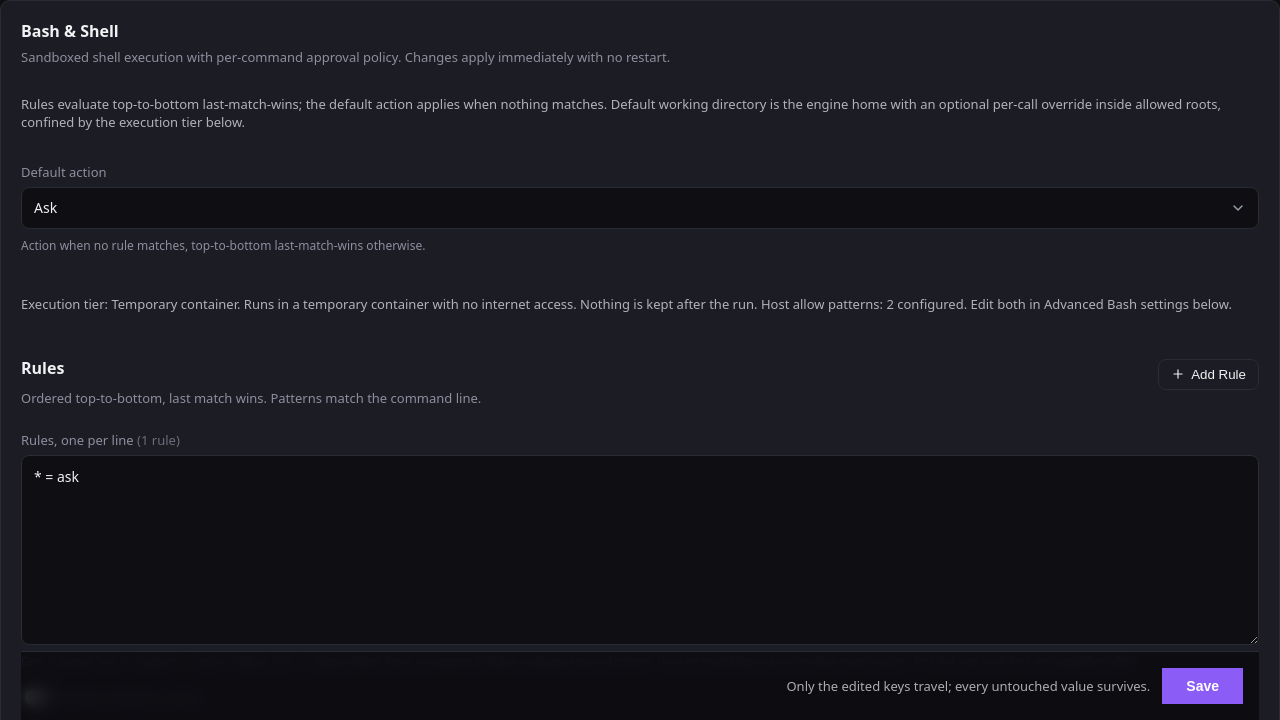
AccessBashSection › rejects an empty rule list before any network write
The image size is (1280, 720).
Clear the text box labelled "Rules, one per line (1 rule)" at (640, 550), box x1=21 y1=455 x2=1259 y2=645
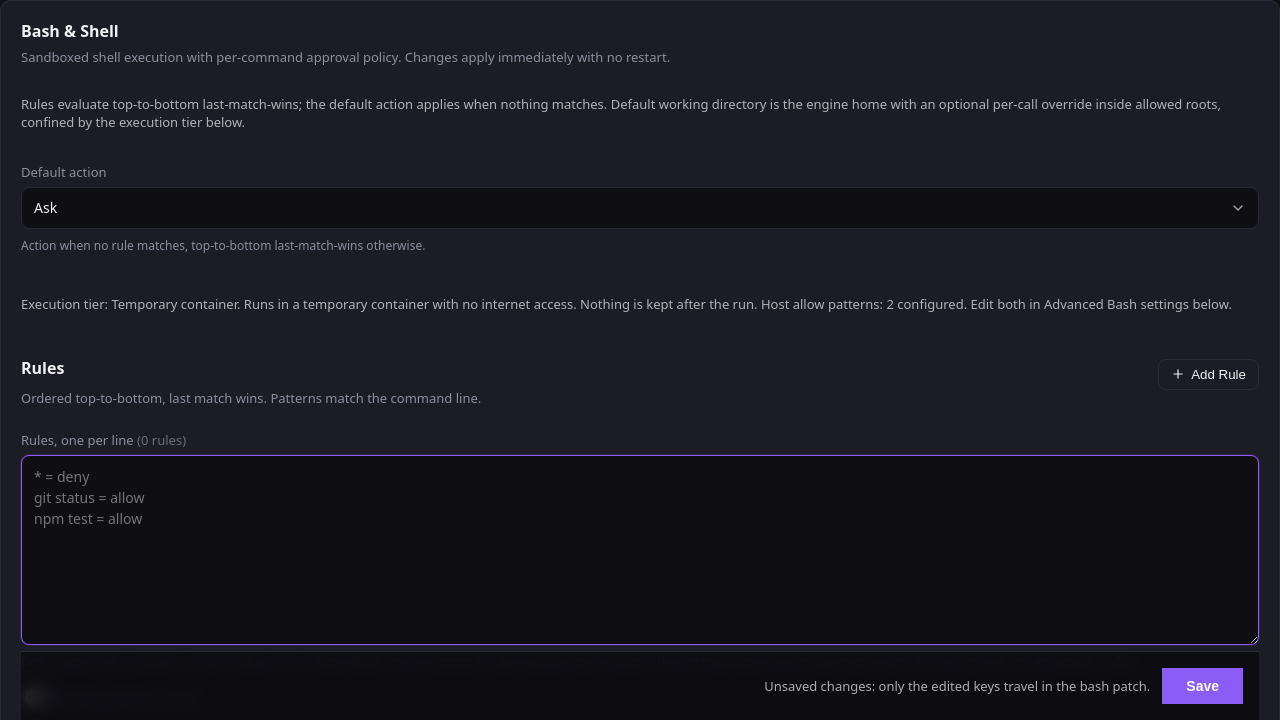
Result: the text "(0 rules)" is shown at x1=137 y1=431 x2=186 y2=449
Click the button with test id "bash-save".
click(1203, 686)  # box x1=1162 y1=668 x2=1243 y2=704
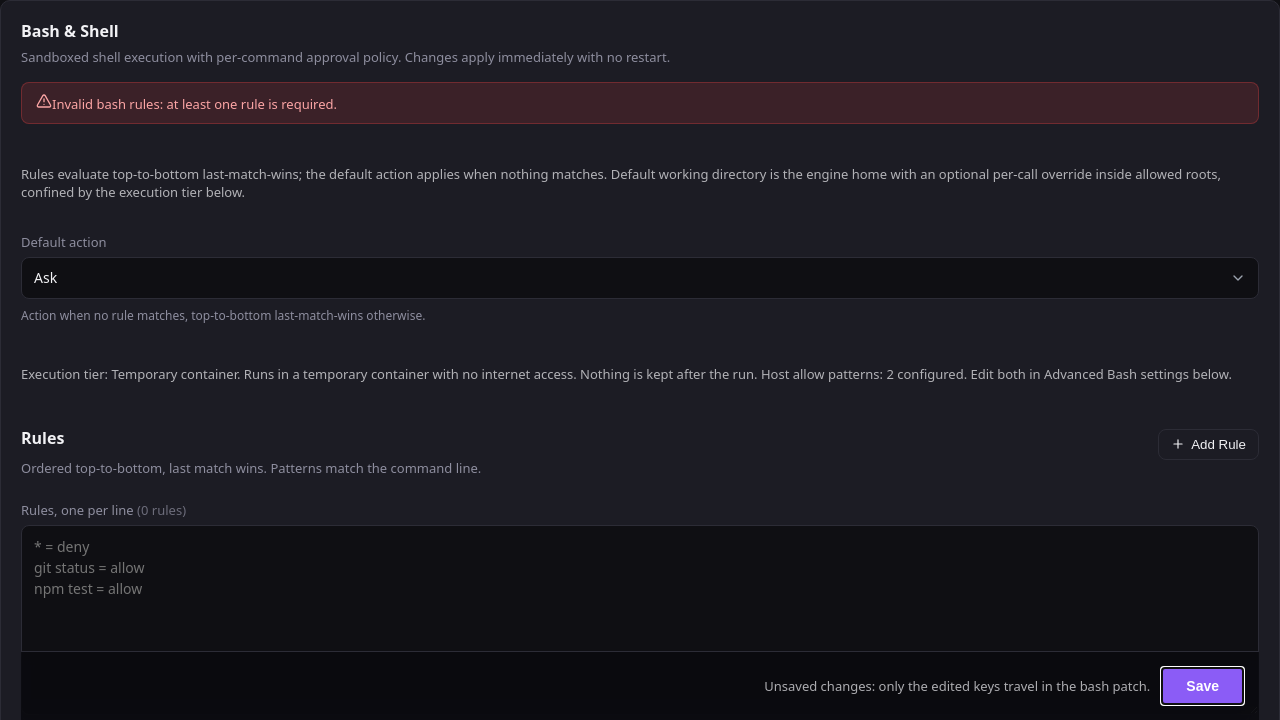
Result: the text "Invalid bash rules: at least one rule is required." is shown at x1=52 y1=95 x2=337 y2=113
